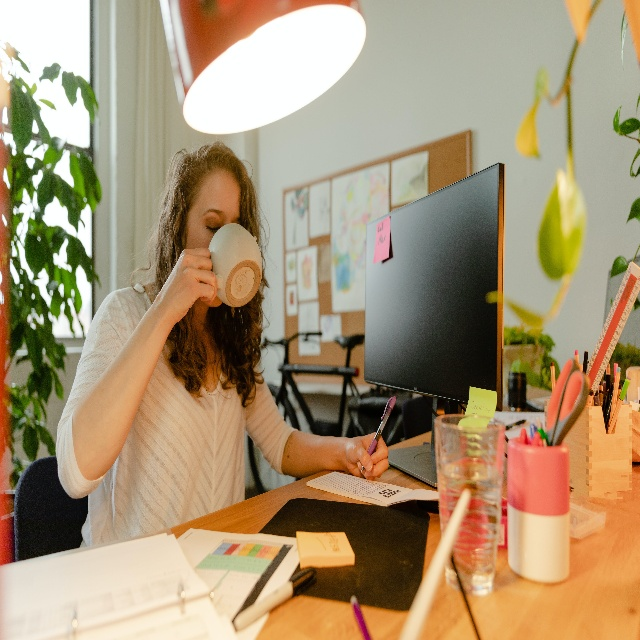Sin_guantes: (163, 245, 222, 317), (345, 430, 390, 480)
